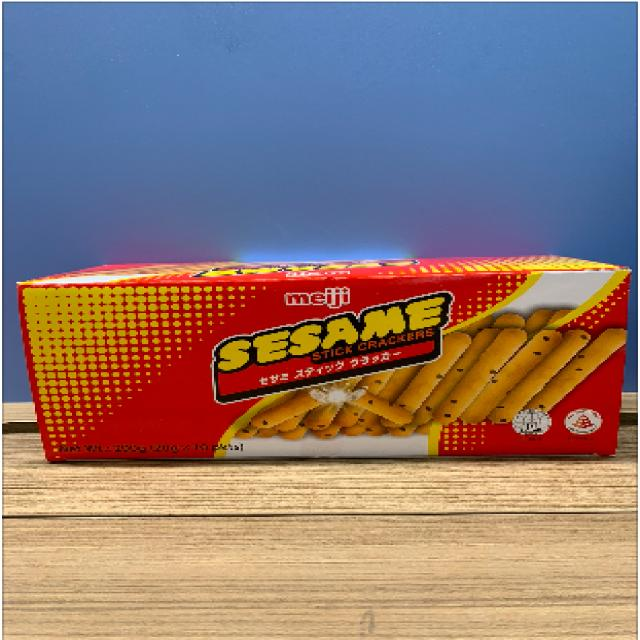object_name: (21, 266, 619, 458)
